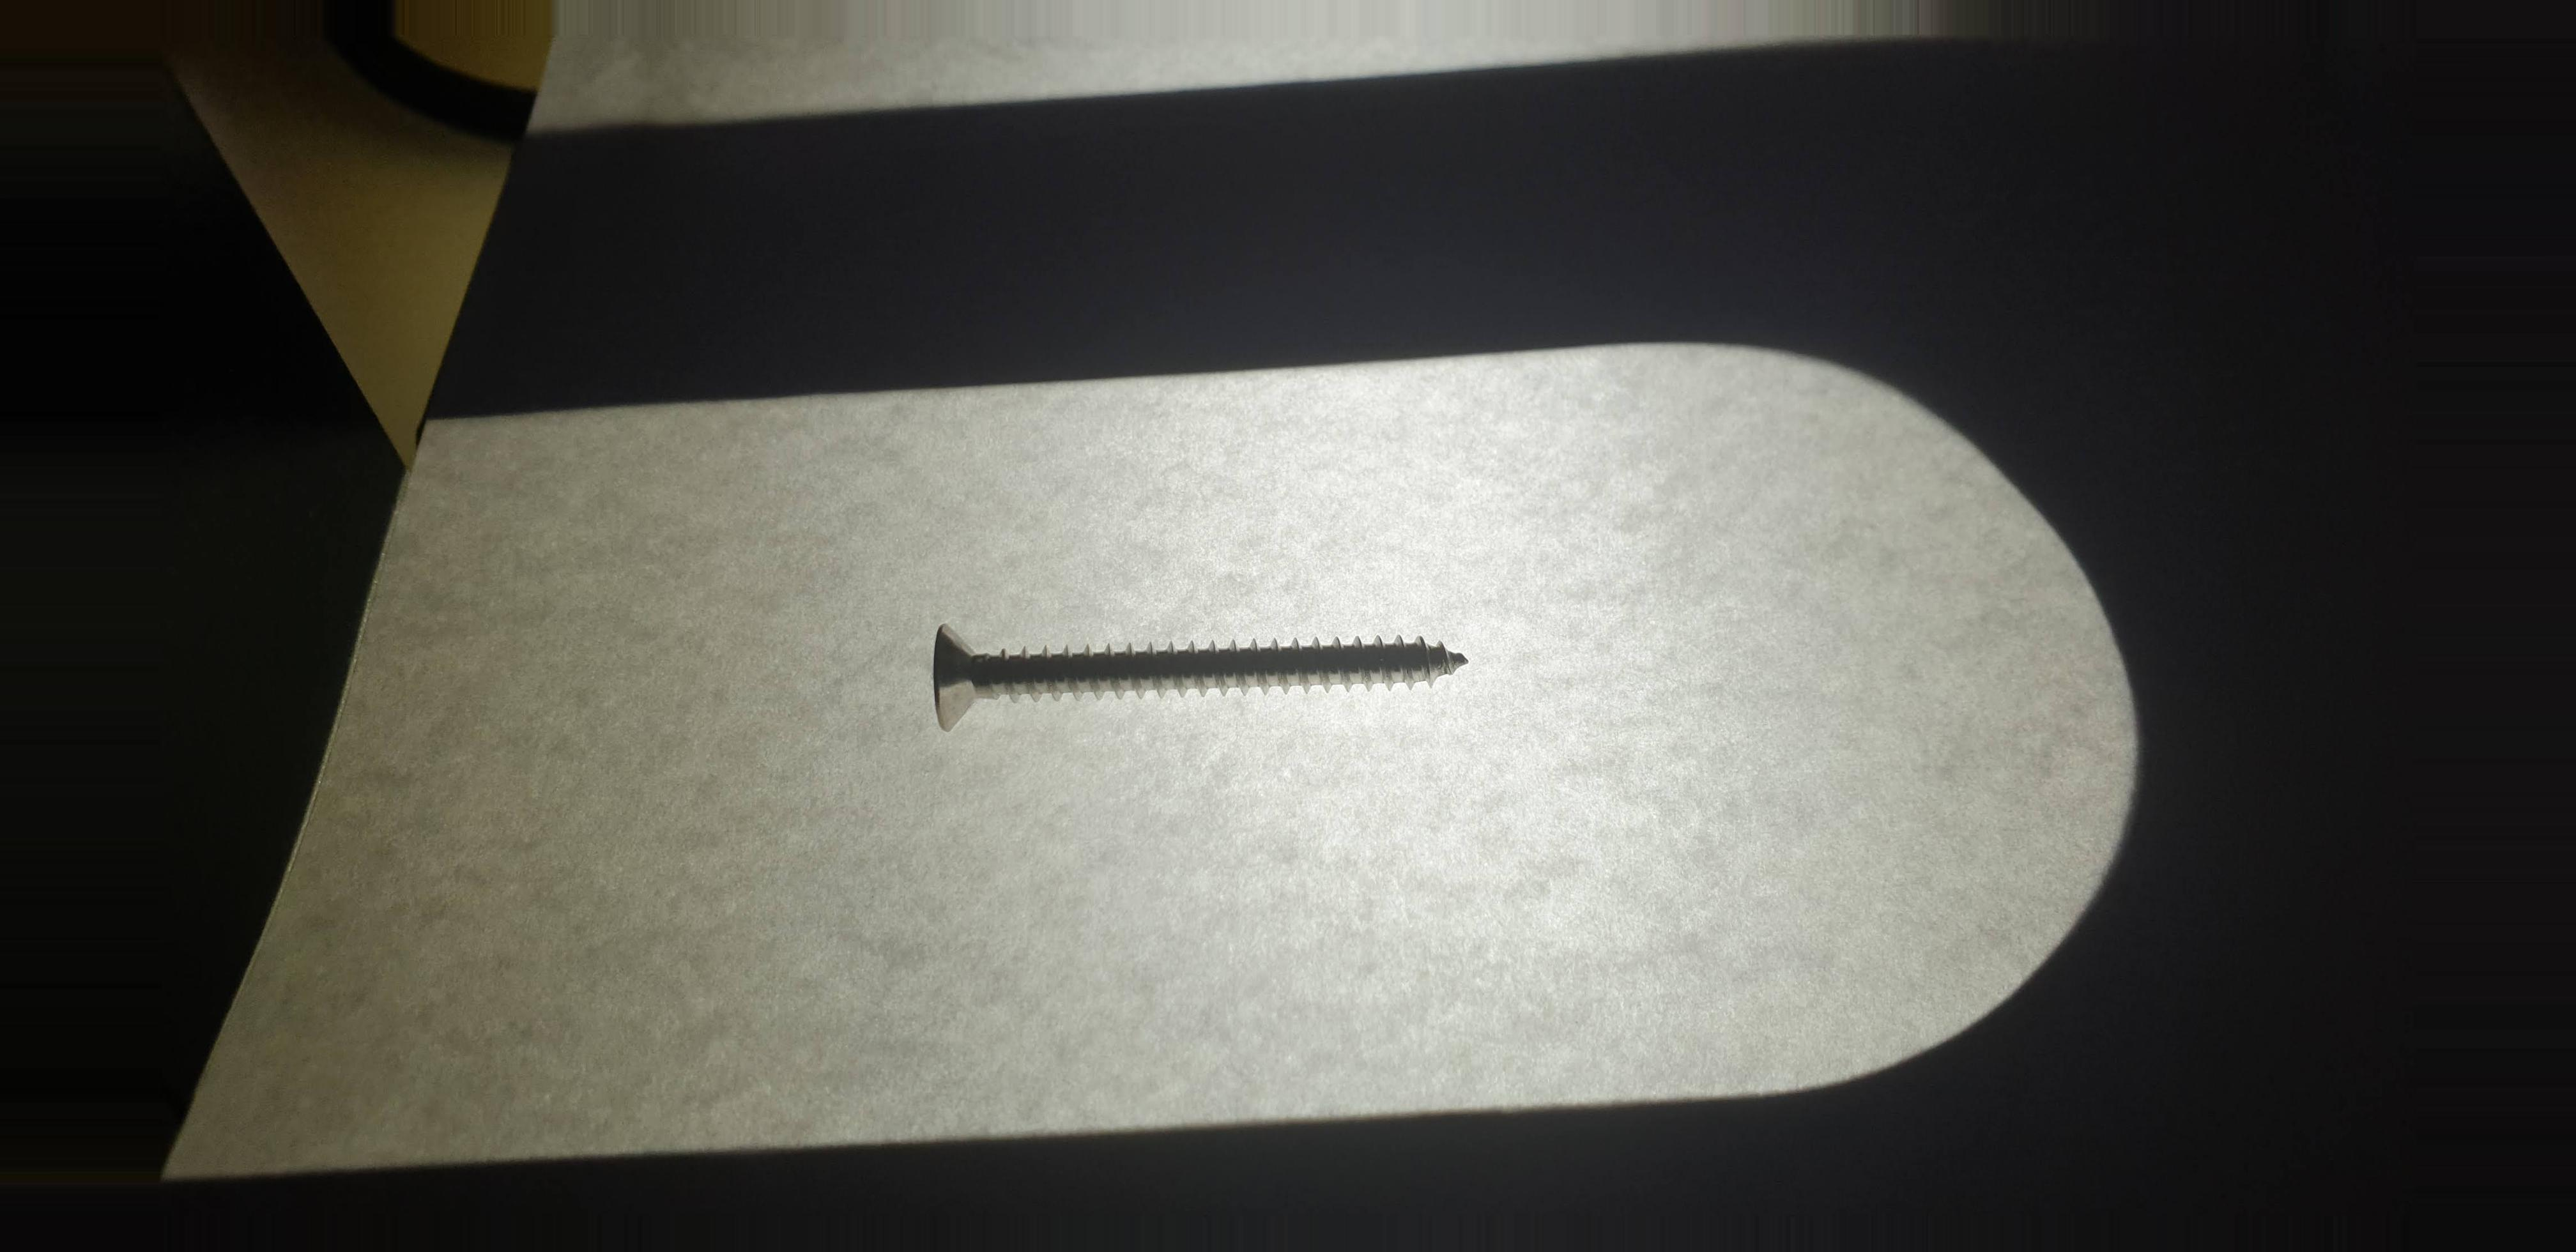S001: (894, 603, 1503, 738)
